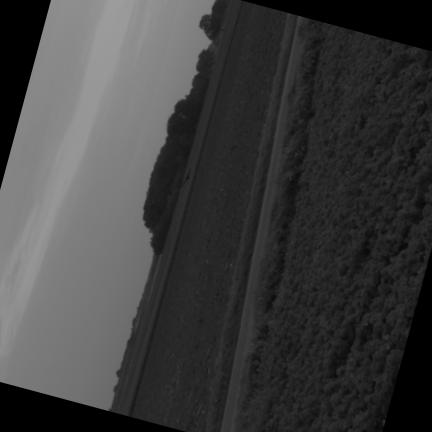Shahed: (178, 166, 191, 187)
